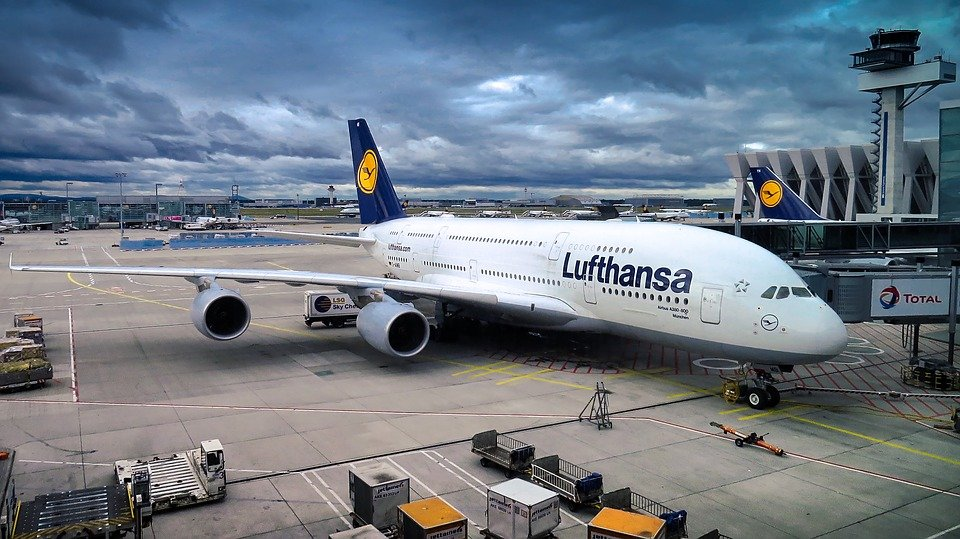Aeronef_commercial: (5, 109, 852, 417)
